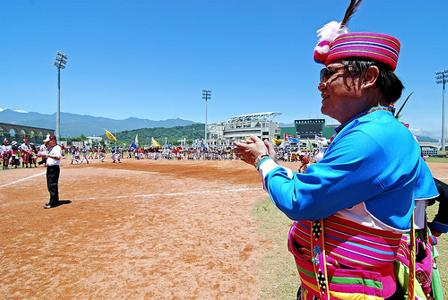person: (234, 33, 446, 300)
